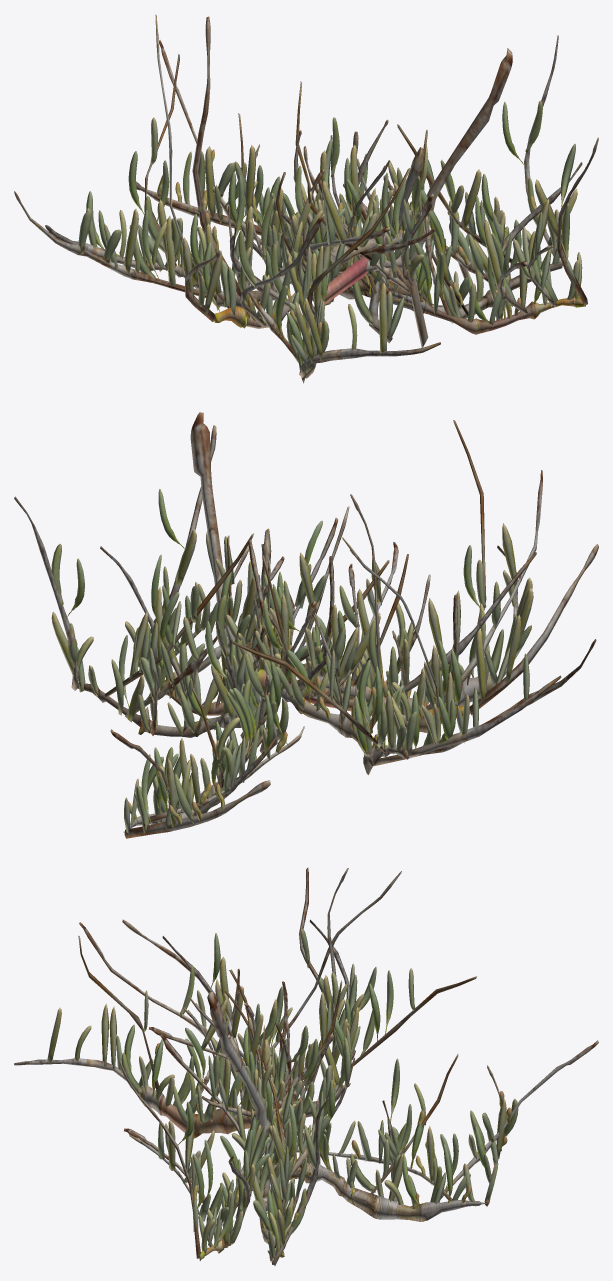
Rendered from leipoldtia_schultzei_single_2.fbx.
3 views of the same model, one above another, from view 1: azimuth 30°, elevation 25°; view 2: azimuth 150°, elevation 25°; view 3: azimuth 270°, elevation 25° (orthographic). The views are drawn at different scales.
Visible parts, largest first — view 1: leipoldtia_schultzei_single_2; view 2: leipoldtia_schultzei_single_2; view 3: leipoldtia_schultzei_single_2.
Boxes of the visible parts, bbox=[...] form: leipoldtia_schultzei_single_2: bbox=[14, 14, 598, 383]; leipoldtia_schultzei_single_2: bbox=[14, 412, 598, 838]; leipoldtia_schultzei_single_2: bbox=[14, 867, 598, 1265].
Bounding box in the file's own units: 0.4869 × 0.28 × 0.5.
Materials: 1 (1 with a texture image).
